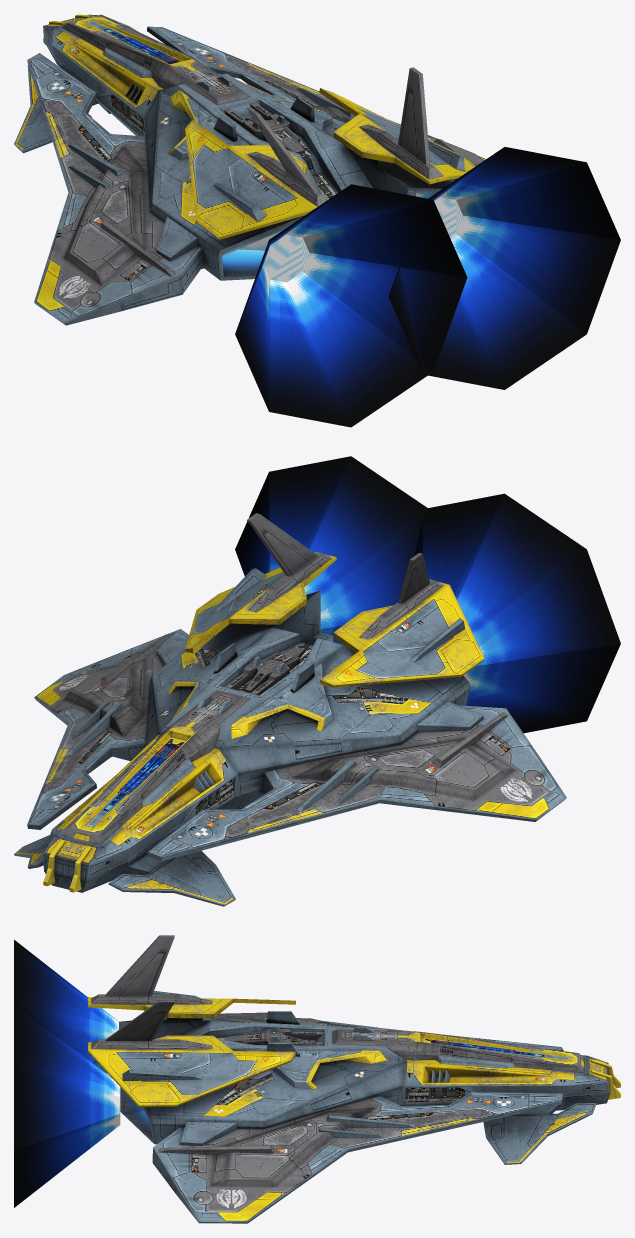
File: spaceship.fbx
3 views of the same model, one above another, from view 1: azimuth 30°, elevation 25°; view 2: azimuth 150°, elevation 25°; view 3: azimuth 270°, elevation 25° (orthographic). The views are drawn at different scales.
Visible parts, largest first — view 1: Fighter; view 2: Fighter; view 3: Fighter.
Part boxes in pixels (x1,y1,x2,y2): Fighter: [14, 14, 620, 427]; Fighter: [14, 456, 620, 906]; Fighter: [14, 935, 620, 1223].
Bounding box in the file's own units: 49.96 × 23.68 × 63.54.
